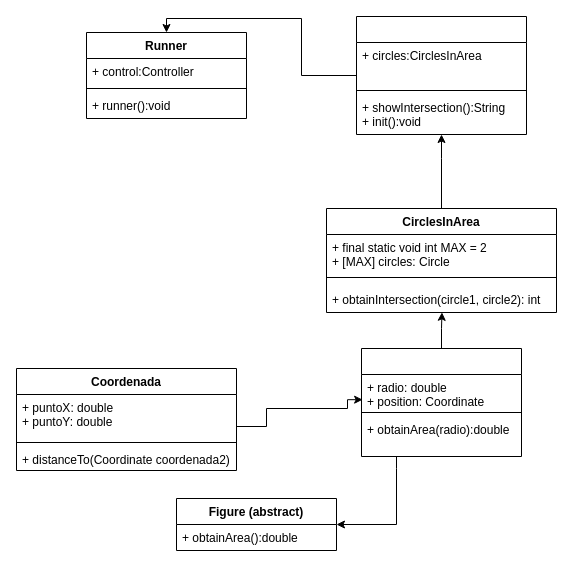
Some shapes in this 573 by 567 pixel diagram are drawn without their labels. Each missing label, with the box of its shape:
Circle: (360, 348, 522, 456)
Controller: (356, 16, 526, 134)
